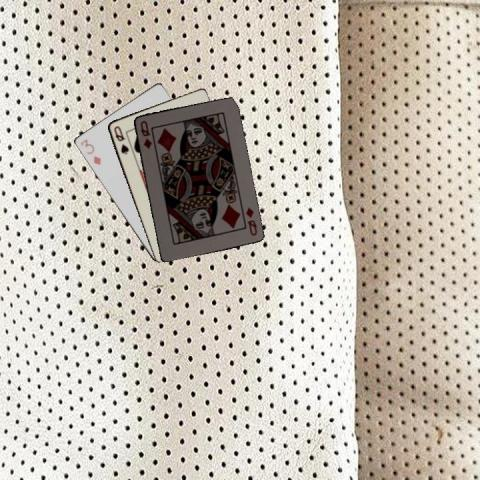3d: (77, 136, 102, 167)
Qd: (138, 117, 154, 151), (242, 203, 258, 237)
Qs: (111, 123, 130, 156)
